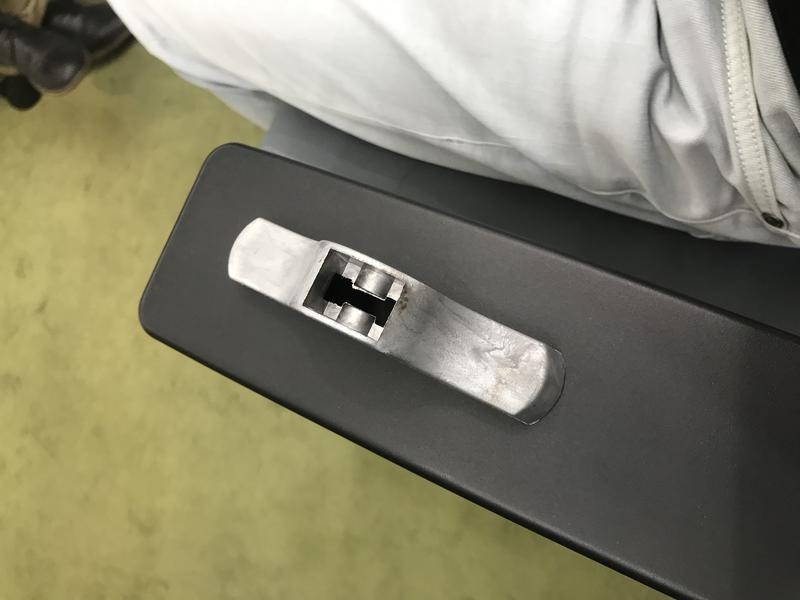zapchast: (202, 188, 581, 442)
